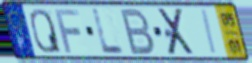B: (119, 7, 157, 57)
F: (53, 7, 82, 55)
I: (200, 8, 219, 57)
L: (91, 7, 127, 56)
Q: (29, 7, 64, 54)
X: (156, 7, 197, 57)
